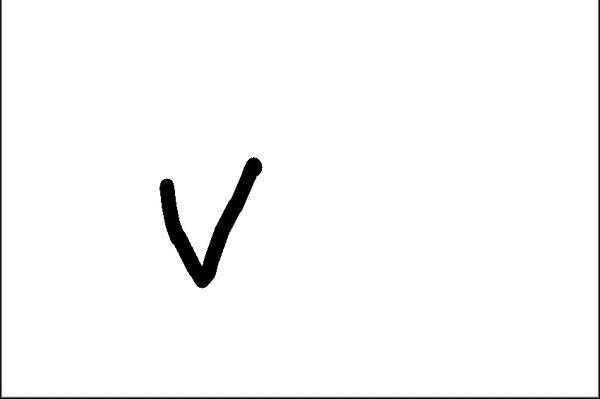V: (145, 148, 273, 294)
